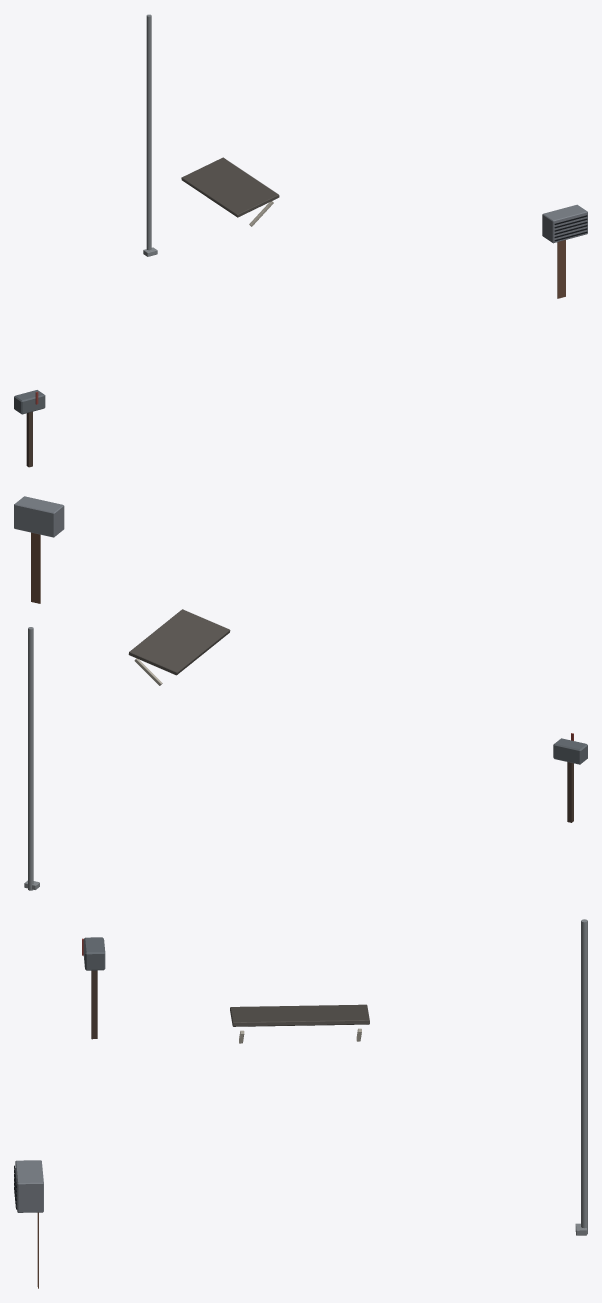
The model's file is house7_bits.glb.
3 views of the same model, one above another, from view 1: azimuth 30°, elevation 25°; view 2: azimuth 150°, elevation 25°; view 3: azimuth 270°, elevation 25° (orthographic). The views are drawn at different scales.
Visible parts, largest first — view 1: house7_bits; view 2: house7_bits; view 3: house7_bits.
Part boxes in pixels (x1,y1,x2,y2): house7_bits: [14, 14, 587, 467]; house7_bits: [14, 496, 587, 890]; house7_bits: [14, 919, 587, 1288].
Bounding box in the file's own units: 10.44 × 4.4 × 7.31.
